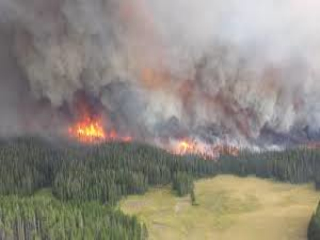fire: (67, 116, 103, 147), (168, 136, 201, 157)
smoke: (8, 4, 317, 141)
